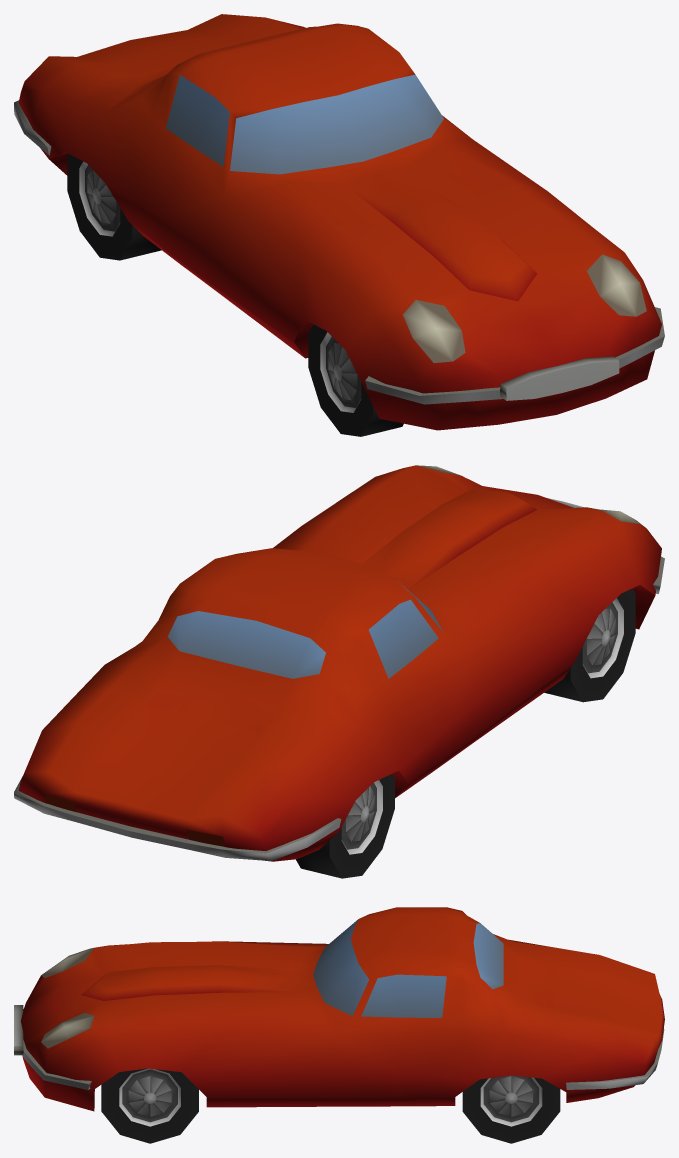
File: vehicles-cars-sports-car_v1.glb
3 renders of one model, top to bottom at view 1: azimuth 30°, elevation 25°; view 2: azimuth 150°, elevation 25°; view 3: azimuth 270°, elevation 25°, orthographic. The views are drawn at different scales.
Visible parts, largest first — view 1: Sports Car.001, Sports Car; view 2: Sports Car.001, Sports Car; view 3: Sports Car.001, Sports Car.
Part boxes in pixels (x1,y1,x2,y2): Sports Car.001: (18, 14, 661, 436); Sports Car: (14, 74, 664, 412); Sports Car.001: (18, 465, 661, 878); Sports Car: (14, 498, 664, 860); Sports Car.001: (20, 907, 664, 1143); Sports Car: (14, 919, 664, 1126).
Bounding box in the file's own units: 1.77 × 1.24 × 4.5.
